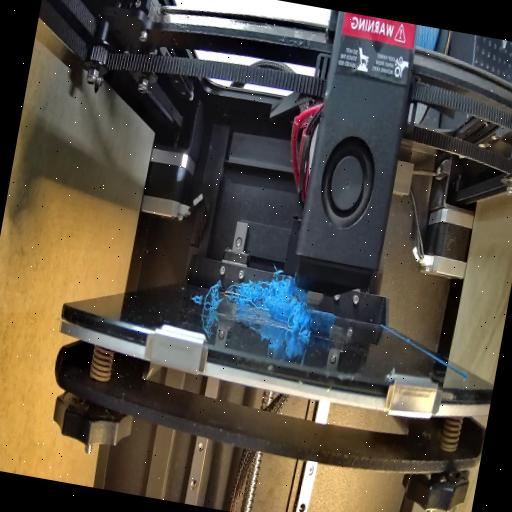spaghetti: (227, 272, 291, 318), (281, 292, 321, 343), (200, 274, 226, 314)
